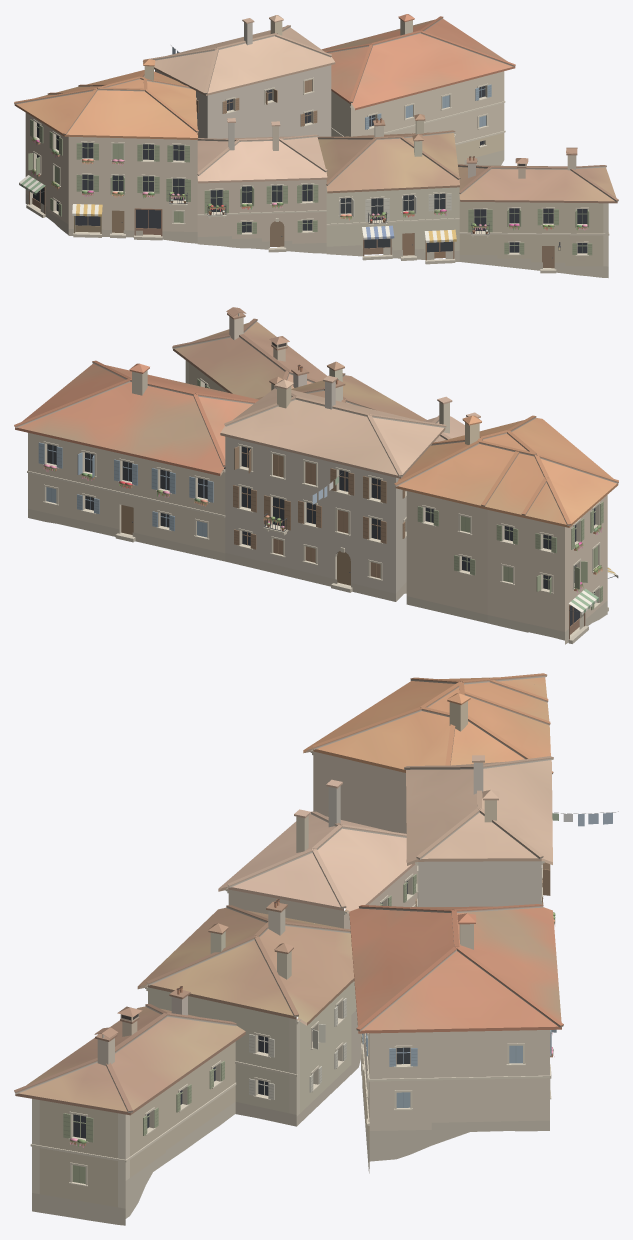
File: SM_BM_BT_blk_13.glb
3 views of the same model, one above another, from view 1: azimuth 30°, elevation 25°; view 2: azimuth 150°, elevation 25°; view 3: azimuth 270°, elevation 25° (orthographic). The views are drawn at different scales.
Parts seen in each view (by area): view 1: SM_BM_BT_blk_13; view 2: SM_BM_BT_blk_13; view 3: SM_BM_BT_blk_13.
Part boxes in pixels (x1,y1,x2,y2): SM_BM_BT_blk_13: [14, 14, 618, 277]; SM_BM_BT_blk_13: [14, 307, 618, 644]; SM_BM_BT_blk_13: [14, 673, 618, 1225].
Bounding box in the file's own units: 47.86 × 20.13 × 36.84.
